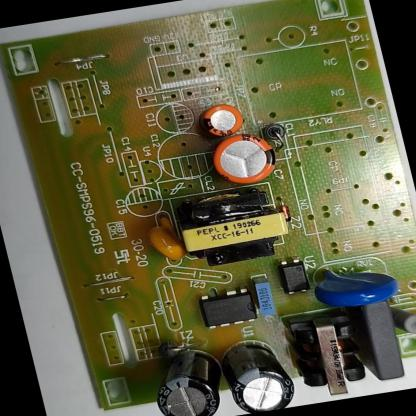Cap1: (208, 128, 287, 193)
Cap2: (197, 101, 249, 140)
Cap3: (217, 334, 301, 416)
Cap4: (145, 346, 230, 416)
MOSFET: (197, 286, 261, 331)
Mov: (310, 257, 404, 312)
Resistor: (390, 300, 416, 344)
Transformer: (169, 182, 294, 270), (282, 304, 378, 402)
